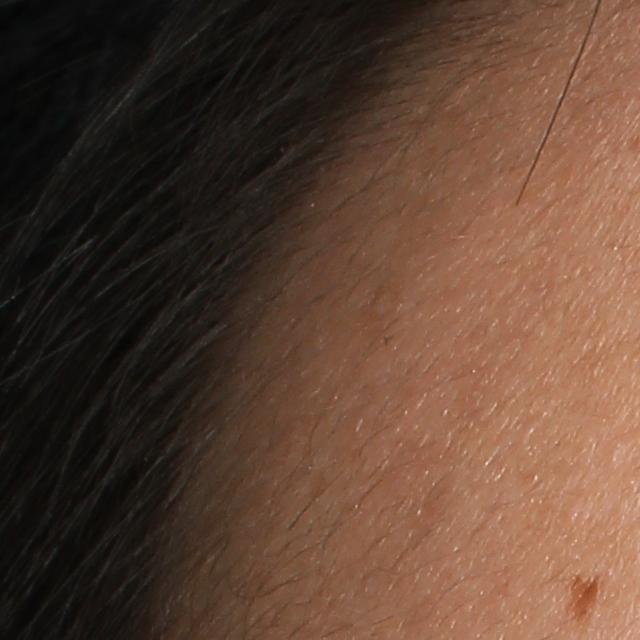nevus: (563, 573, 604, 626)
